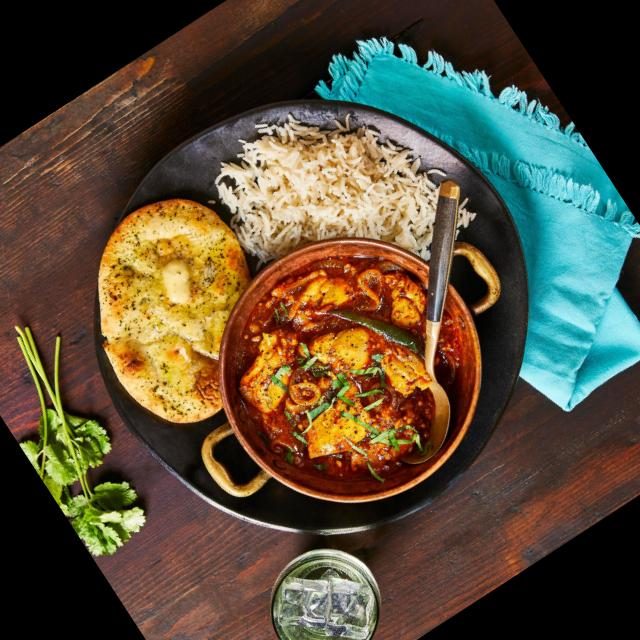chicken: (202, 222, 493, 508)
rice: (202, 66, 446, 304)
roti: (66, 202, 272, 418)
